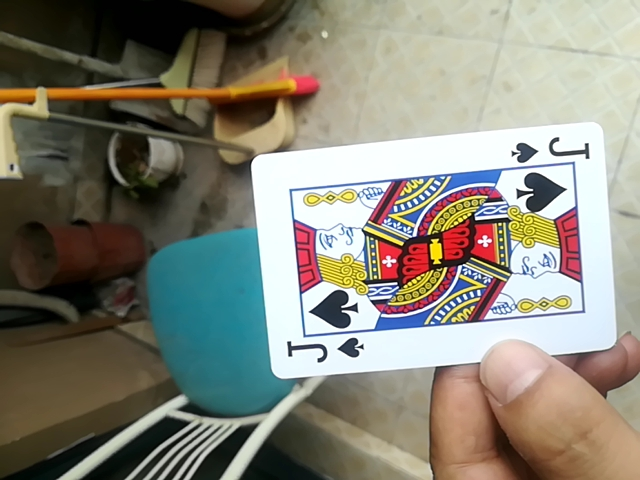ht j: (243, 125, 622, 383)
